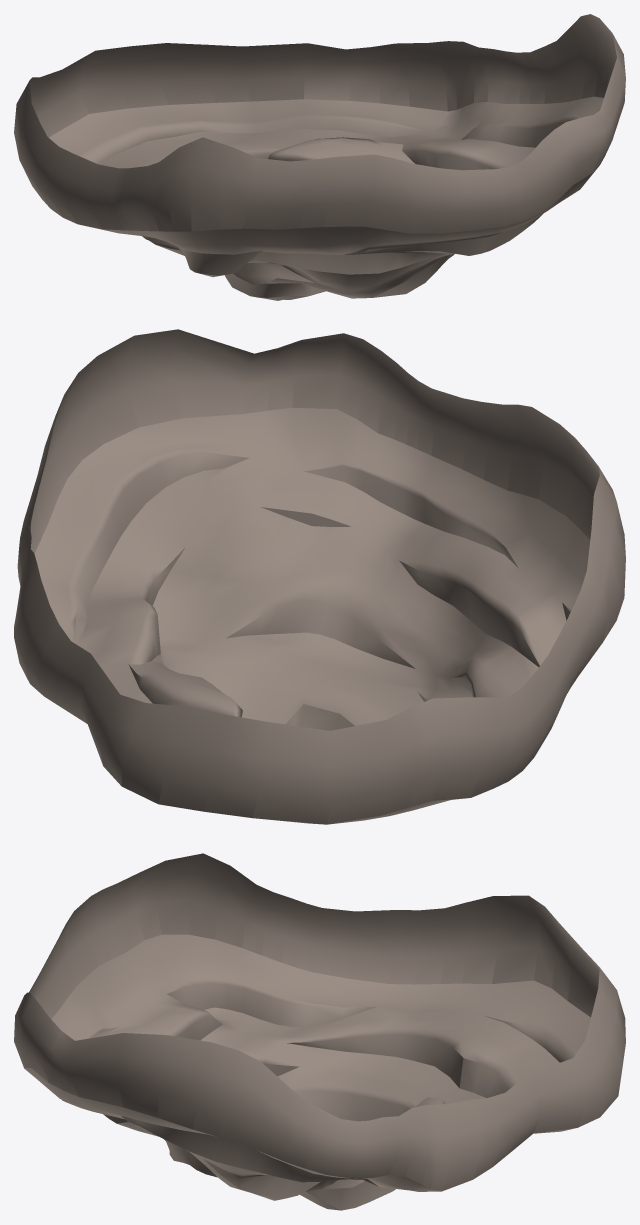
File: terrain.fbx
3 views of the same model, one above another, from view 1: azimuth 30°, elevation 25°; view 2: azimuth 150°, elevation 25°; view 3: azimuth 270°, elevation 25° (orthographic). The views are drawn at different scales.
Parts seen in each view (by area): view 1: pDisc1; view 2: pDisc1; view 3: pDisc1.
Part boxes in pixels (left/top/right/bottom): pDisc1: left=14, top=14, right=625, bottom=300; pDisc1: left=14, top=329, right=625, bottom=824; pDisc1: left=14, top=853, right=625, bottom=1210.
Size of the model in its own units: 43.71 by 21.42 by 46.26.
